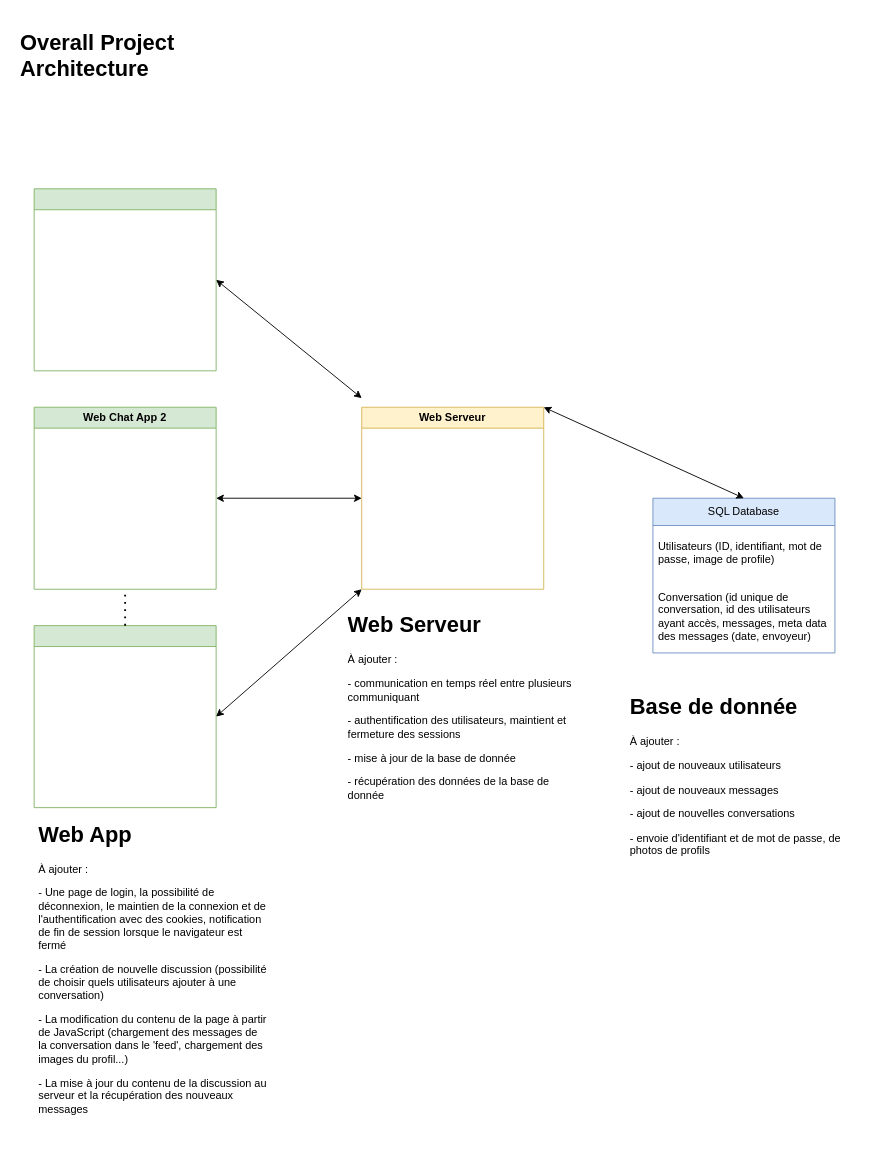
This 877x1150 diagram has some shape labels left out. Here are the shapes that lost their labels. From the top down, the box of each, then its label:
(33, 188, 216, 371): Web Chat App 1
(33, 625, 216, 808): Web Chat App n
